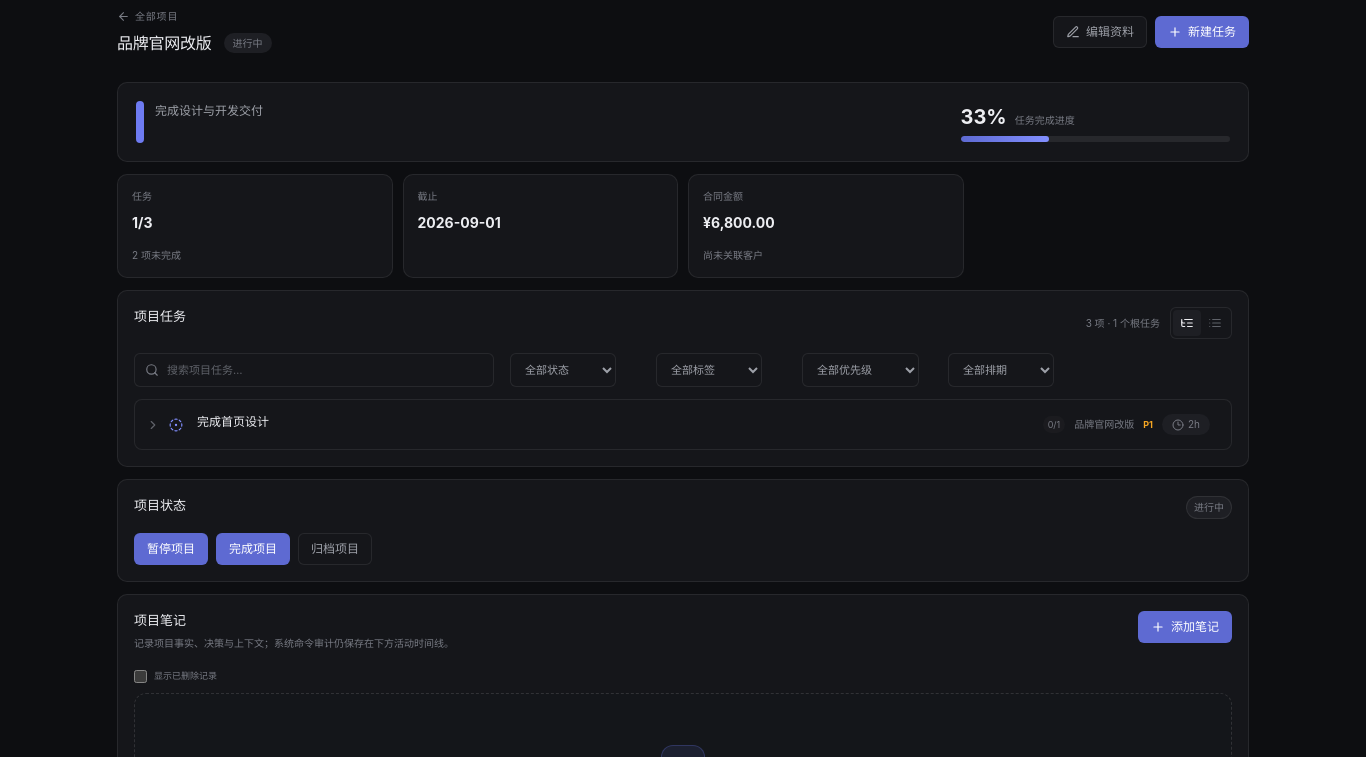
ProjectDetailPage › shows project tasks as a hierarchy and can switch to a flat list
expect the element showing "完成首页设计 0/1 品牌官网改版 P1 2h" is shown: met, box [134,399,1232,450]
expect the text "完成首页设计" is shown: met, box [197,414,269,429]
What coordinates should you click on to do the following:
click the button named "展开子任务：完成首页设计"
I would click on:
 (153, 424)
Its box is [144,414,162,436].
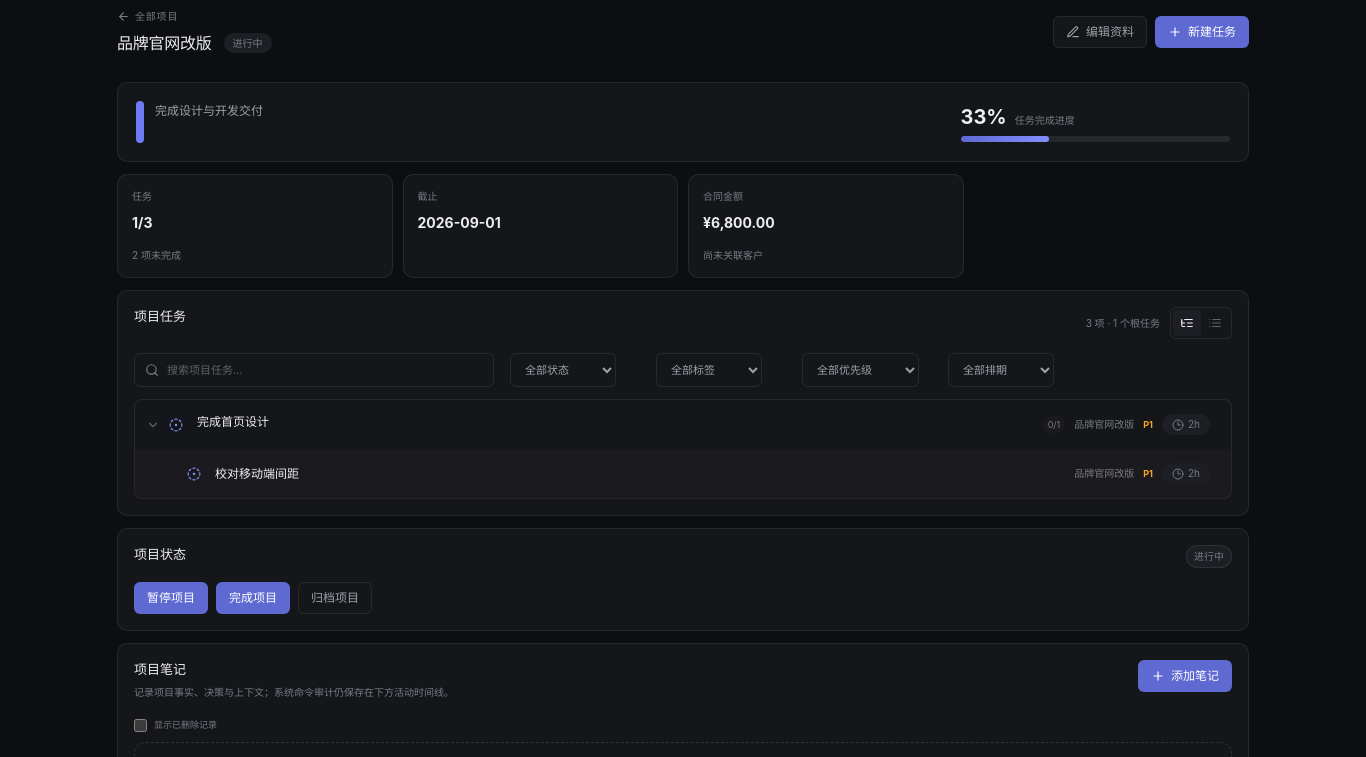
expect the text "校对移动端间距" is shown: met, box [215,466,299,480]
What coordinates should you click on to do the following:
click the button named "平铺列表视图"
I would click on:
 (1215, 323)
Its box is [1201,310,1229,336].
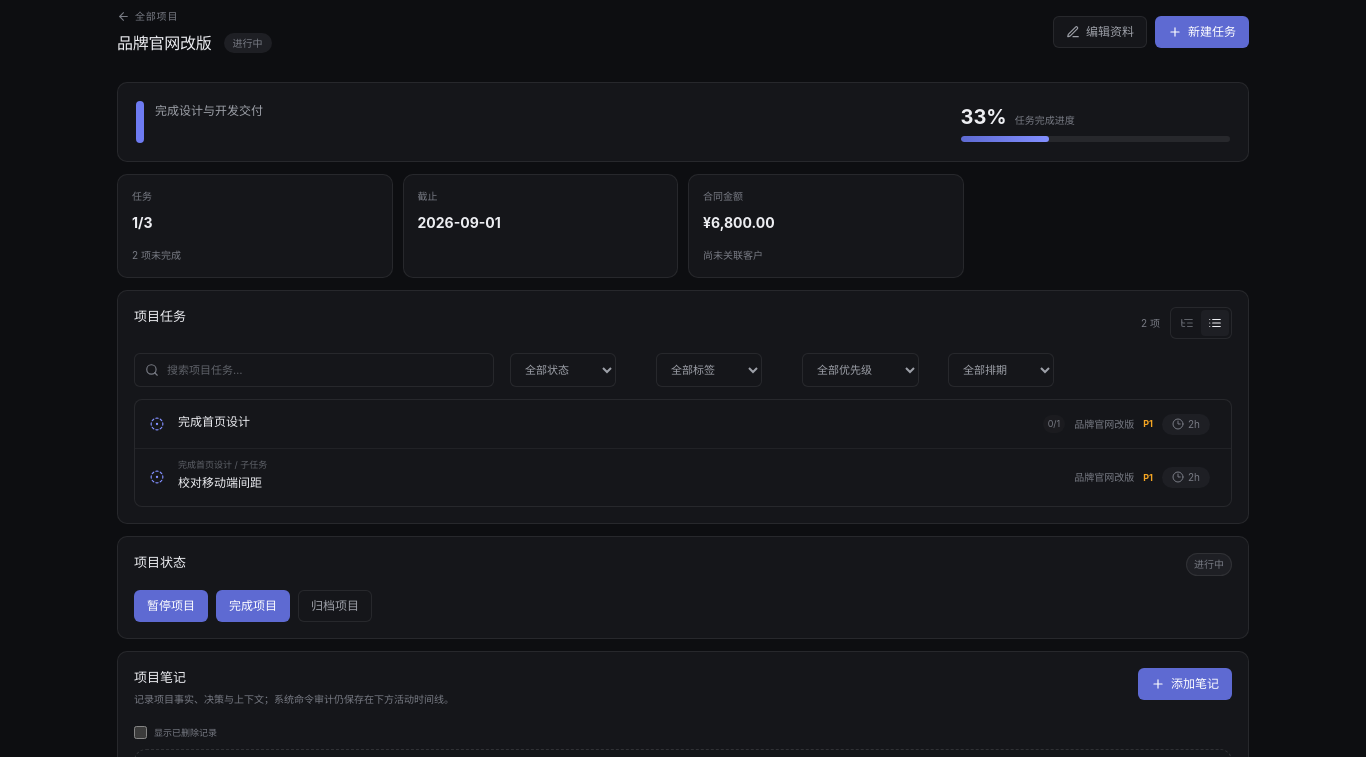
expect the text "校对移动端间距" is shown: met, box [178,474,262,490]
expect the text "2 项" is shown: met, box [1141,316,1160,330]
